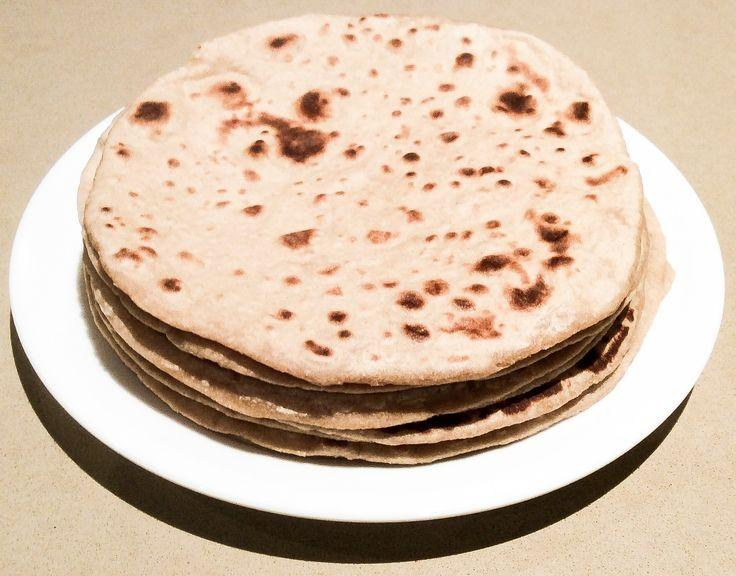roti phulka: (69, 8, 681, 474)
